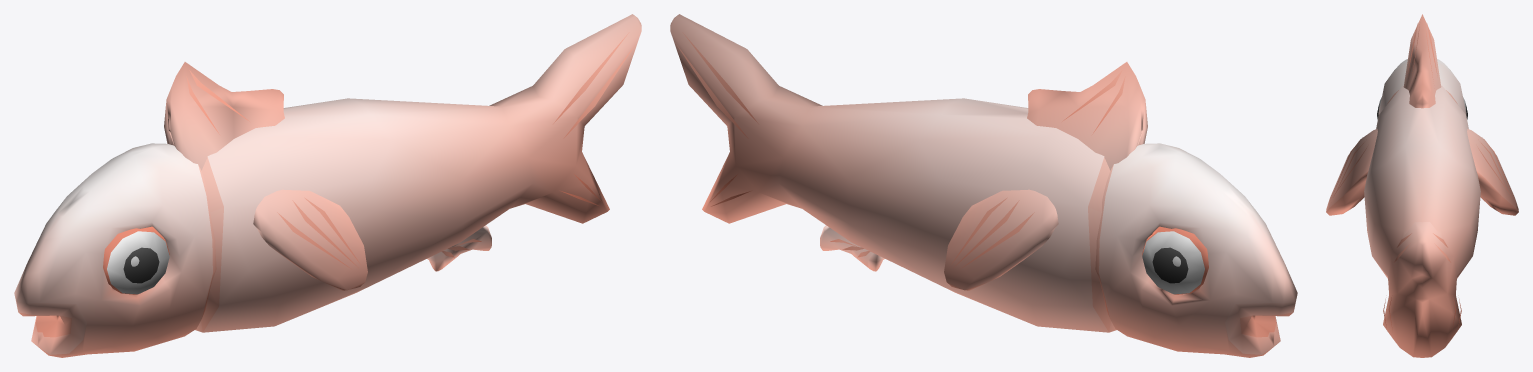
The model's file is fish_001.glb.
The picture shows the model from 3 angles, left to right: view 1: azimuth 30°, elevation 25°; view 2: azimuth 150°, elevation 25°; view 3: azimuth 270°, elevation 25°; orthographic projection. The views are drawn at different scales.
Visible parts, largest first — view 1: fish.001; view 2: fish.001; view 3: fish.001.
Boxes of the visible parts, left/top/right/bottom form: fish.001: left=14, top=14, right=641, bottom=357; fish.001: left=670, top=14, right=1297, bottom=357; fish.001: left=1326, top=14, right=1518, bottom=357.
Bounding box in the file's own units: 1.05 × 0.4486 × 0.3685.
Materials: 1 (1 with a texture image).
